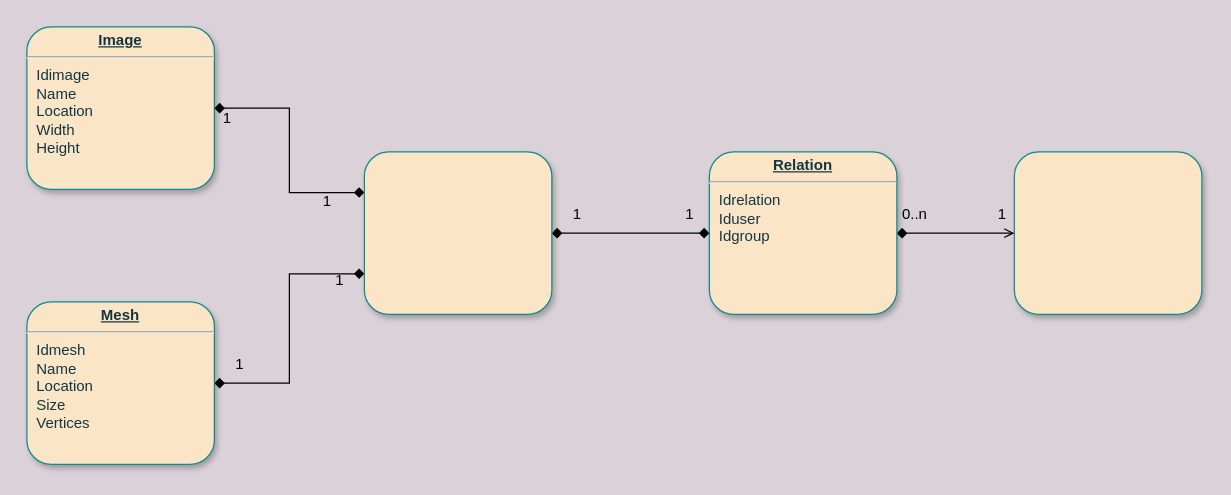
Image size: 1231x495. Some labels were removed from this diagram. Each missing label, with the centre of its shape:
"Group Idgroup Idmesh Idimage" belongs at pixel 458 234.
"User IdUser Name LastName Email UserName Password" belongs at pixel 1108 234.
